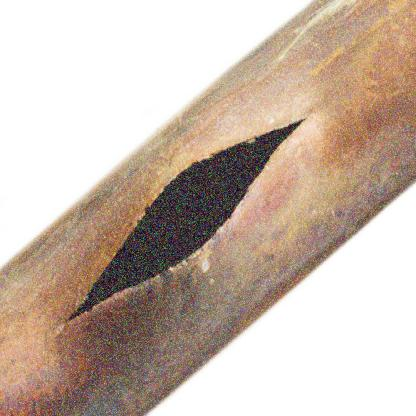burst: (71, 109, 323, 328)
